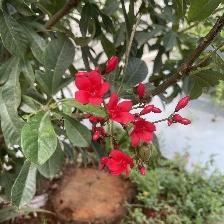jatropha: (75, 70, 115, 111)
